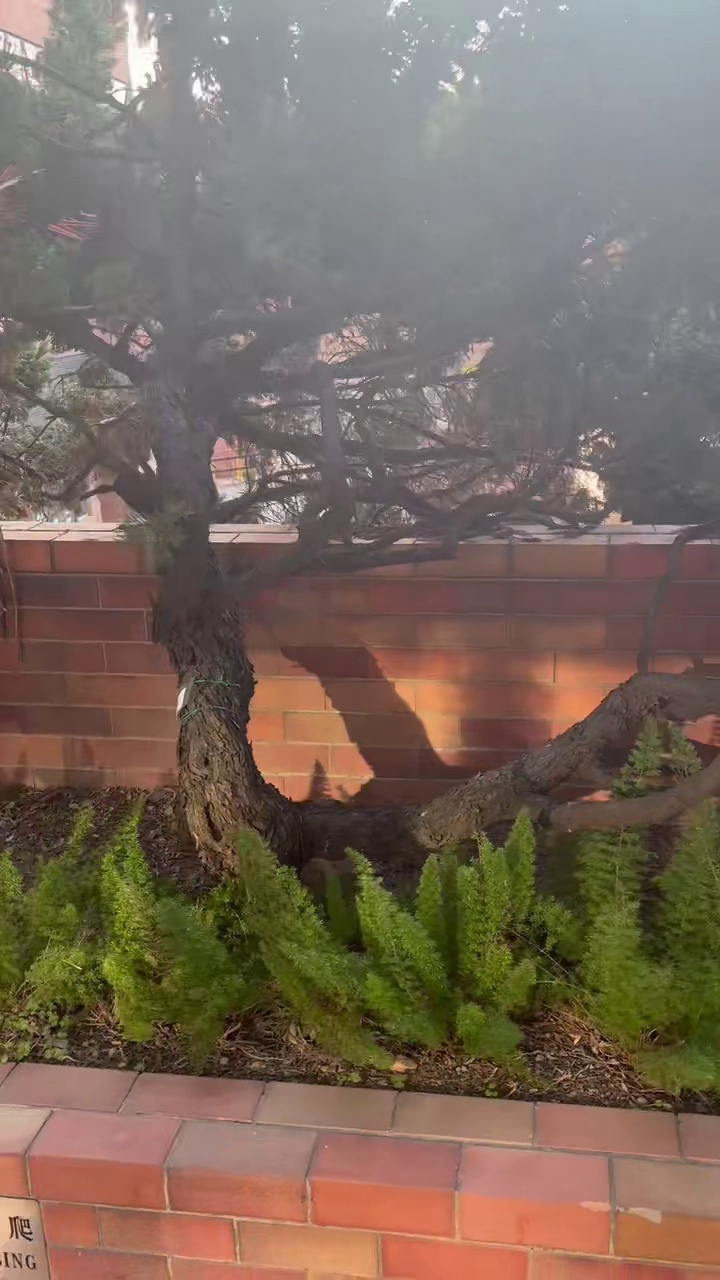Juniperus chinensis: (0, 0, 719, 862)
